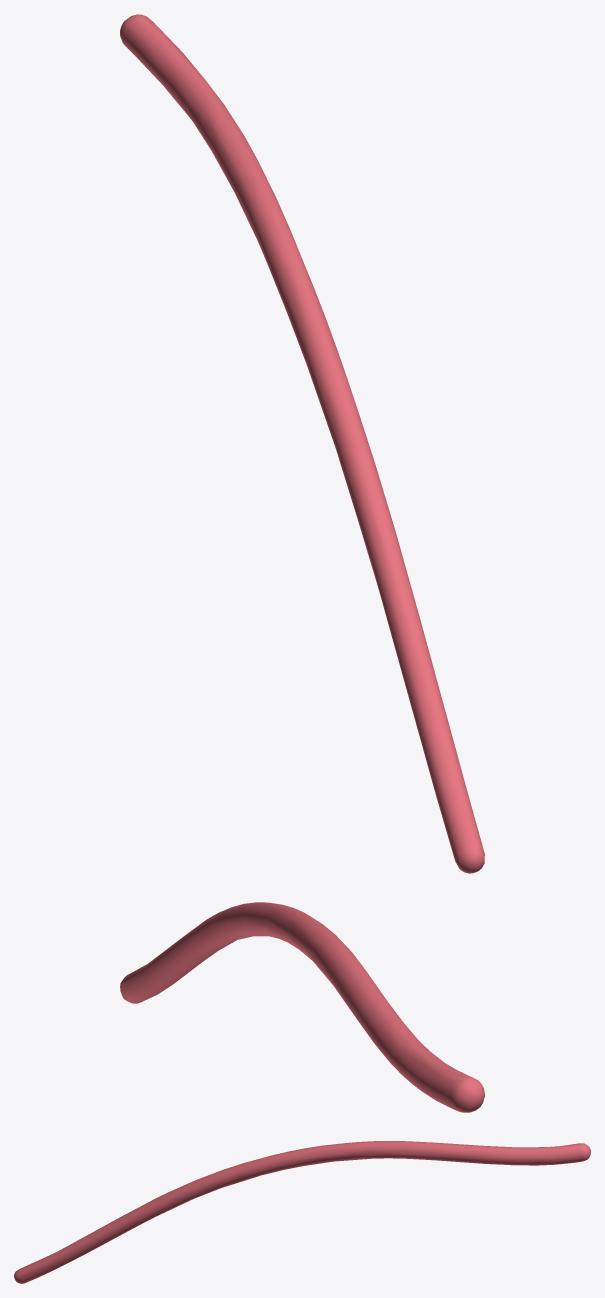
File: fma43937_fj2179.glb
3 views of the same model, one above another, from view 1: azimuth 30°, elevation 25°; view 2: azimuth 210°, elevation 25°; view 3: azimuth 270°, elevation 25° (orthographic). The views are drawn at different scales.
Parts seen in each view (by area): view 1: FMA43937_FJ2179; view 2: FMA43937_FJ2179; view 3: FMA43937_FJ2179.
Part boxes in pixels (x1=…): FMA43937_FJ2179: x1=120, y1=14, x2=484, y2=873; FMA43937_FJ2179: x1=120, y1=902, x2=484, y2=1112; FMA43937_FJ2179: x1=14, y1=1141, x2=590, y2=1283.
Bounding box in the file's own units: 0.0143 × 0.0207 × 0.0554.
